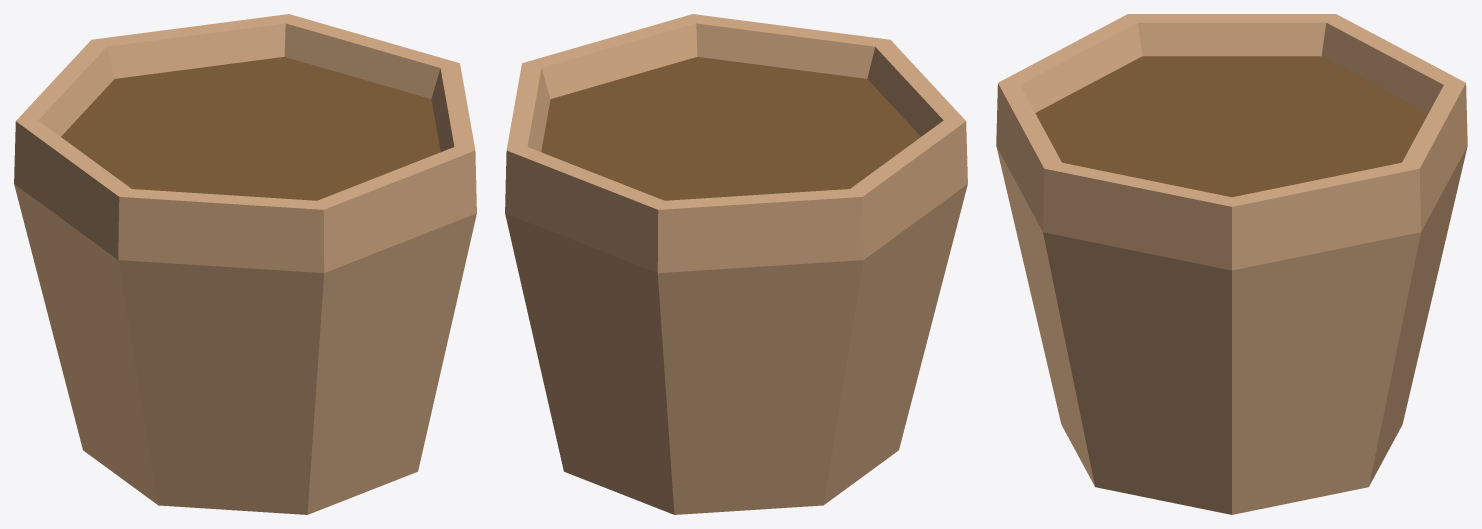
File: Pot.fbx
The picture shows the model from 3 angles, left to right: view 1: azimuth 30°, elevation 25°; view 2: azimuth 150°, elevation 25°; view 3: azimuth 270°, elevation 25°; orthographic projection.
Visible parts, largest first — view 1: PlantPot3; view 2: PlantPot3; view 3: PlantPot3.
Part boxes in pixels (bbox=[...]): PlantPot3: bbox=[14, 14, 476, 514]; PlantPot3: bbox=[505, 14, 967, 514]; PlantPot3: bbox=[996, 14, 1467, 514].
Size of the model in its own units: 0.00188 by 0.00151 by 0.00193.
